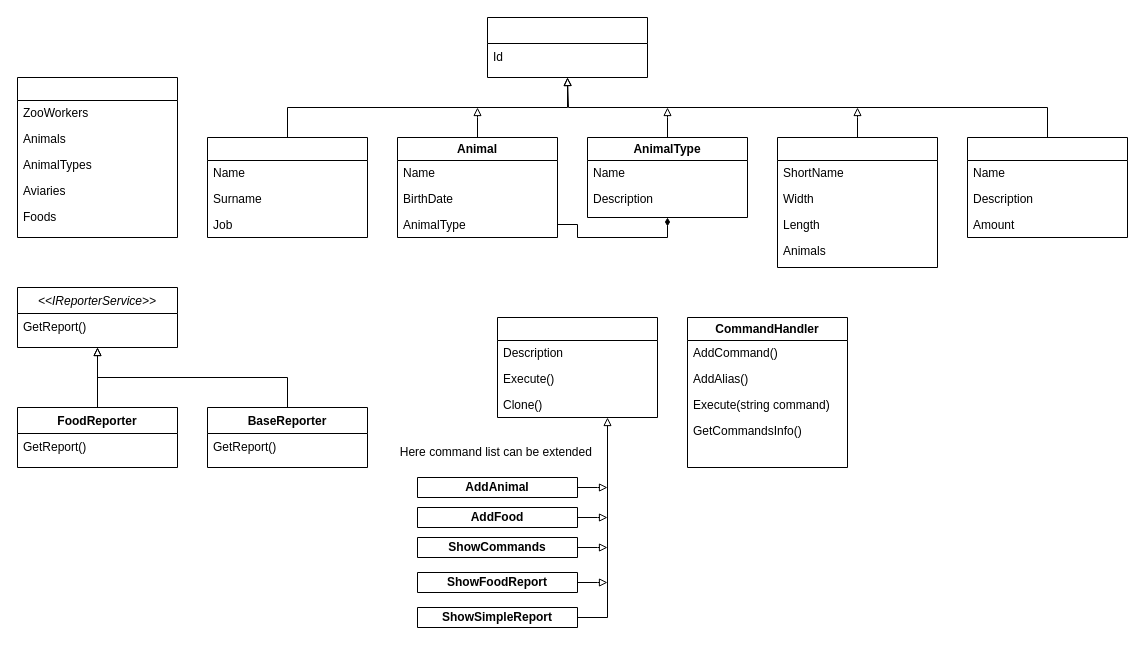
This 1145x645 diagram has some shape labels left out. Here are the shapes that lost their labels. From the top down, the box of each, then its label:
(486, 16, 648, 78): EntityBase
(16, 76, 178, 238): ZooContext
(206, 136, 368, 238): ZooWorker
(776, 136, 938, 268): Aviary
(966, 136, 1128, 238): Food
(496, 316, 658, 418): Command
